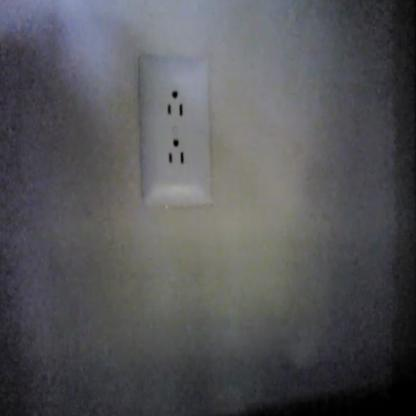OUTLET: (140, 56, 208, 208)
